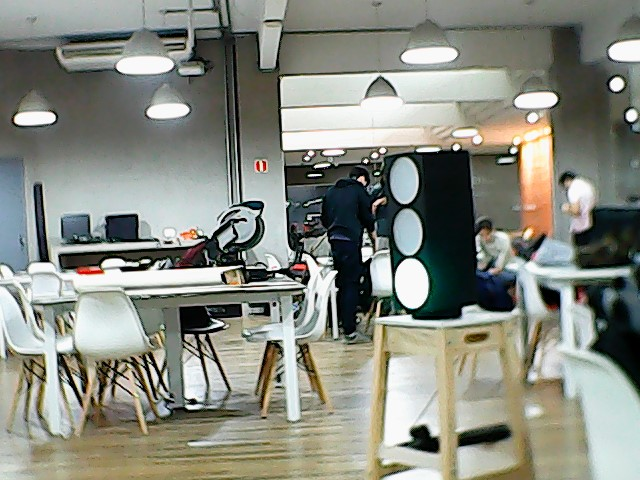verde: (375, 147, 481, 317)
